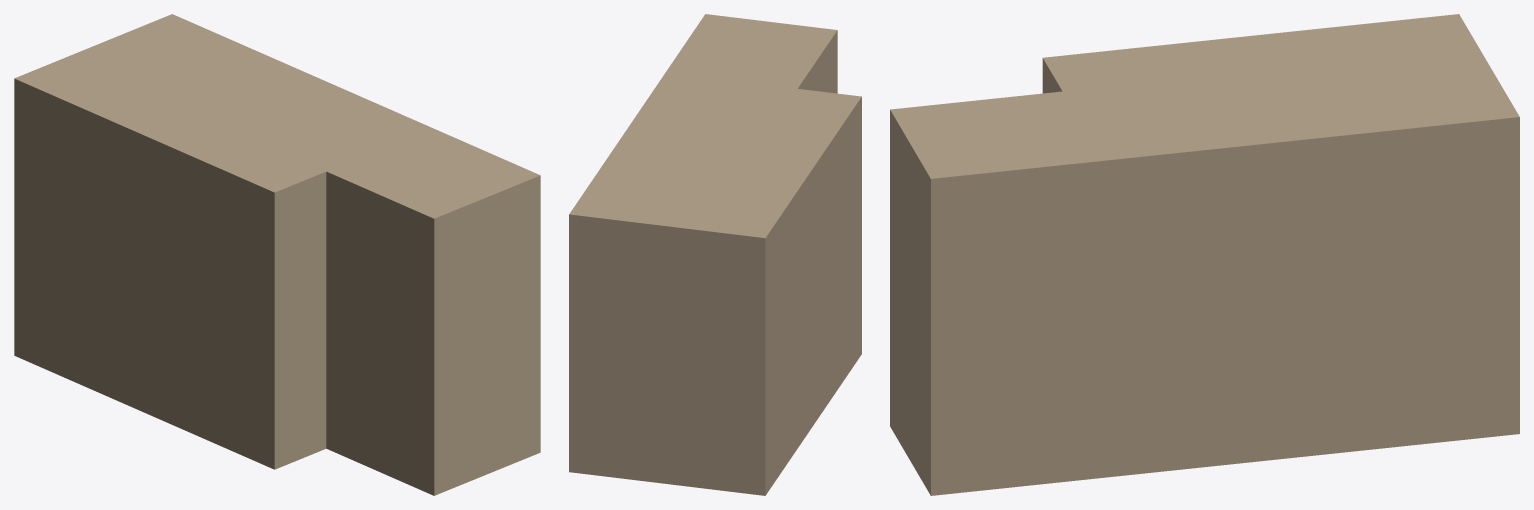
Rendered from bld_106456305.dae.
The picture shows the model from 3 angles, left to right: view 1: azimuth 30°, elevation 25°; view 2: azimuth 150°, elevation 25°; view 3: azimuth 270°, elevation 25°; orthographic projection. The views are drawn at different scales.
Visible parts, largest first — view 1: bld_106456305; view 2: bld_106456305; view 3: bld_106456305.
Part boxes in pixels (x1=…): bld_106456305: x1=14, y1=14, x2=540, y2=495; bld_106456305: x1=569, y1=14, x2=861, y2=495; bld_106456305: x1=890, y1=14, x2=1519, y2=495.
Bounding box in the file's own units: 8.93 × 14.4 × 8.
